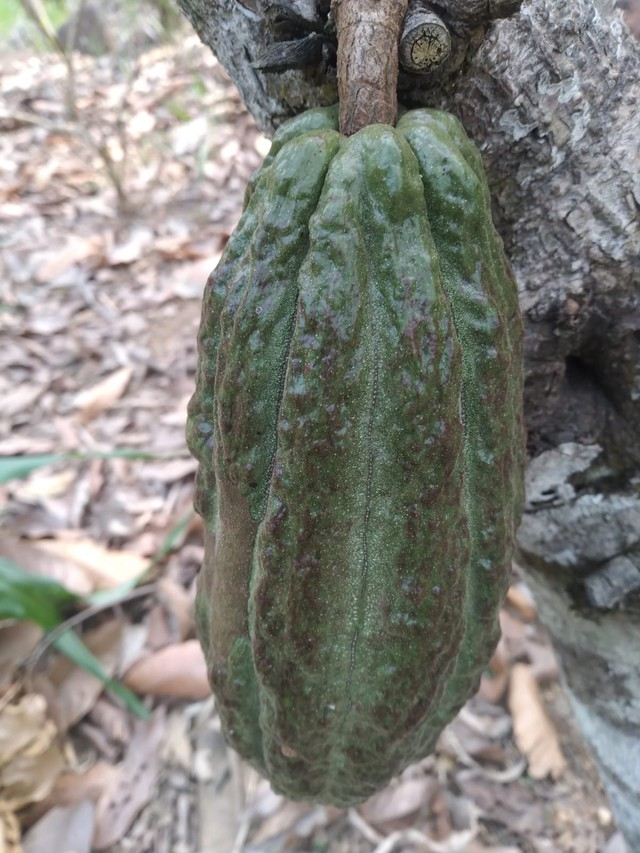Health: (173, 95, 537, 816)
